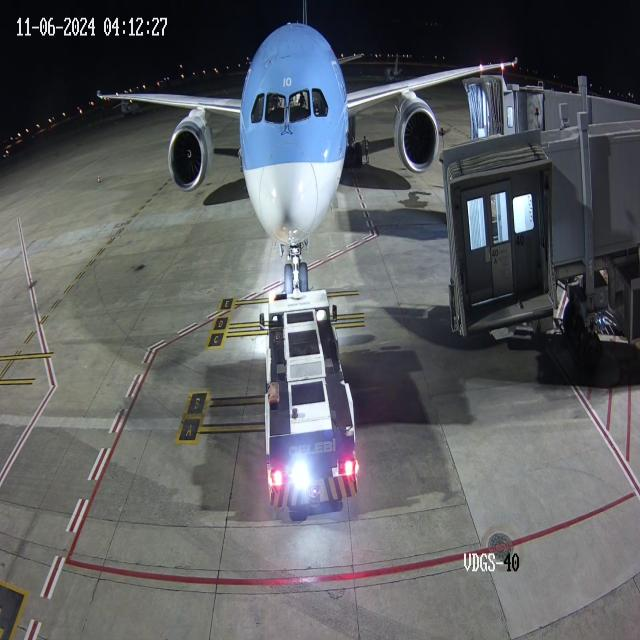bridge: (493, 52, 551, 136)
plane: (92, 18, 440, 295)
window: (247, 86, 332, 129)
